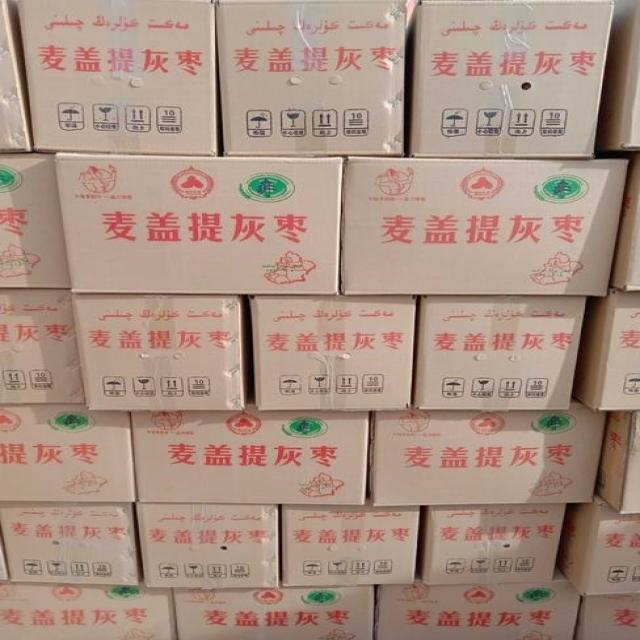box: (57, 151, 346, 296), (339, 157, 637, 297), (1, 0, 221, 154), (405, 1, 615, 161), (217, 0, 408, 157), (367, 411, 610, 506), (132, 410, 372, 505), (73, 291, 244, 412), (244, 294, 419, 412), (413, 297, 587, 411), (375, 565, 579, 639), (1, 401, 136, 501), (417, 503, 565, 586), (0, 502, 144, 587), (137, 503, 282, 586), (279, 504, 422, 586), (172, 585, 376, 639), (0, 150, 72, 291), (0, 290, 86, 405), (0, 582, 174, 638), (556, 495, 639, 597), (571, 293, 639, 411), (597, 2, 639, 161), (0, 1, 32, 151), (596, 409, 639, 512), (614, 160, 639, 295), (574, 596, 639, 639)
